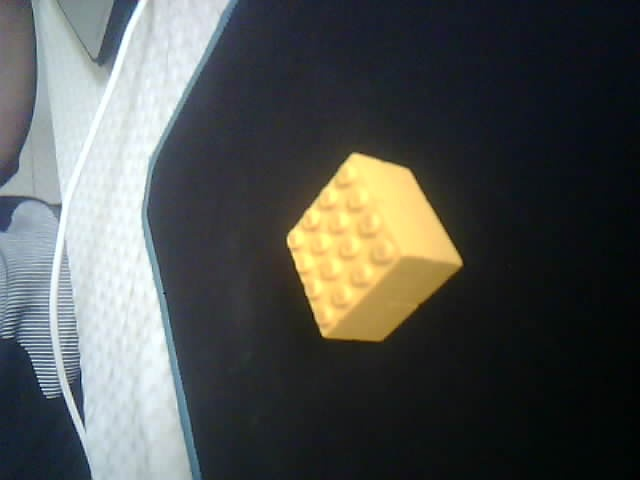lego: (285, 151, 464, 343)
